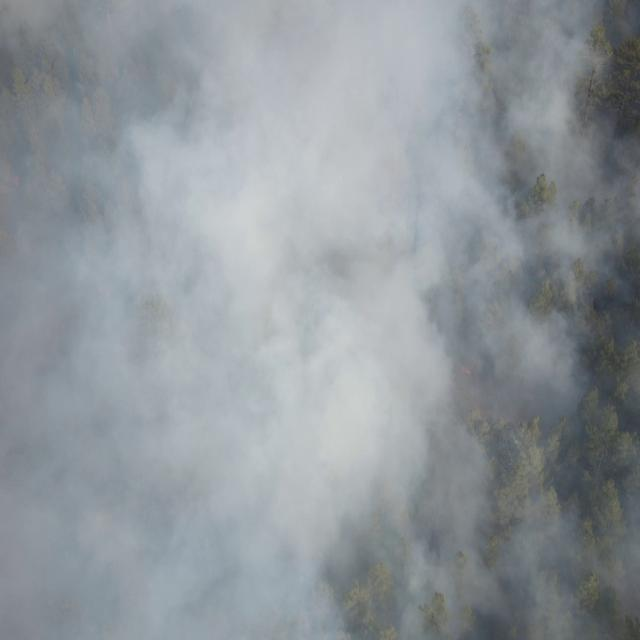fire: (0, 166, 20, 192), (459, 362, 475, 378)
smoke: (0, 0, 640, 640)
